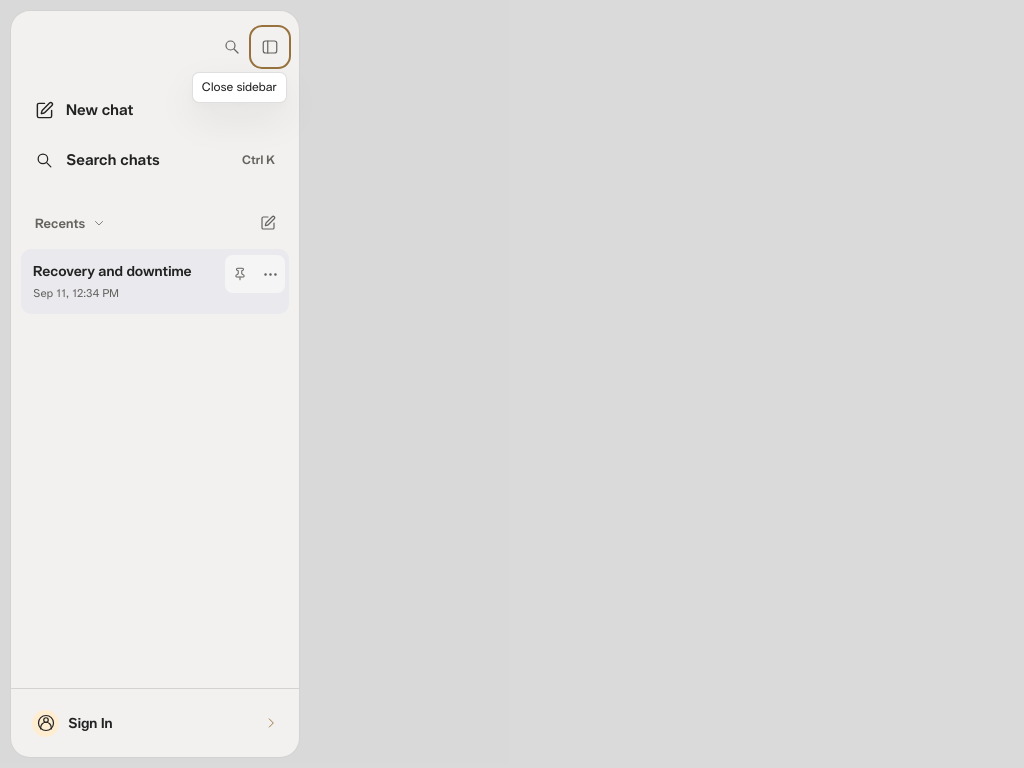
Test case: Functional sidebar with HTTP doubles › supports keyboard options and explicit rename, with errors preserving the edit
The width and height of the screenshot is (1024, 768).
Click the button named "Options for Recovery and downtime" at (270, 274), box [255,255,285,293]
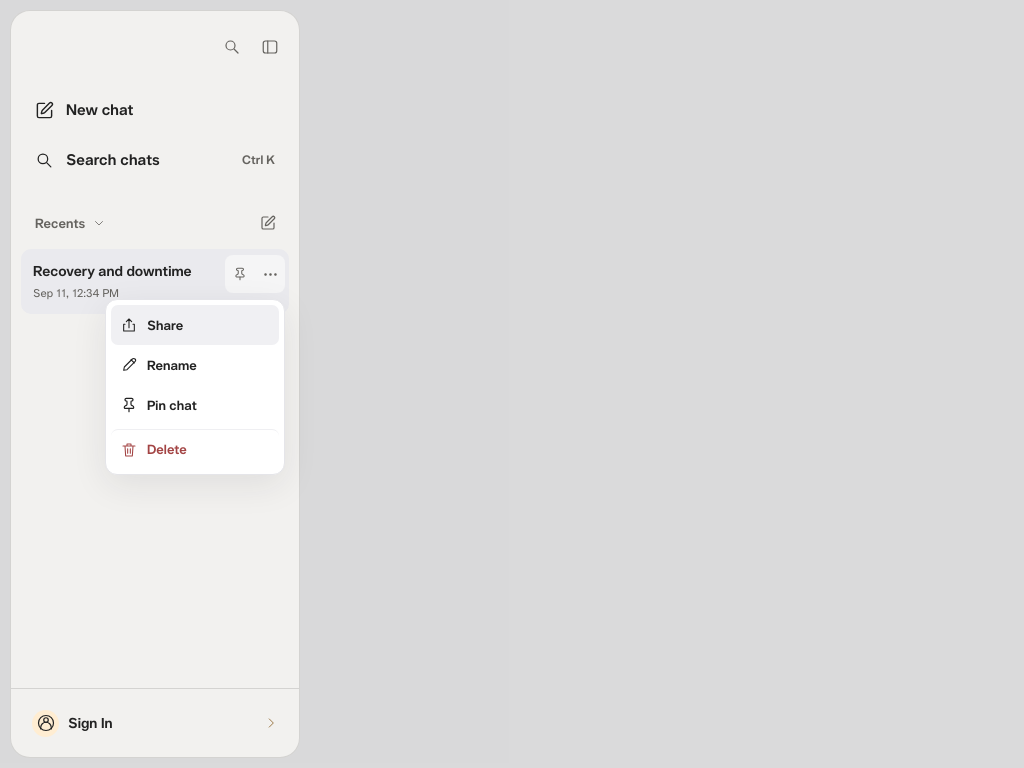
Press Arrowdown Enter
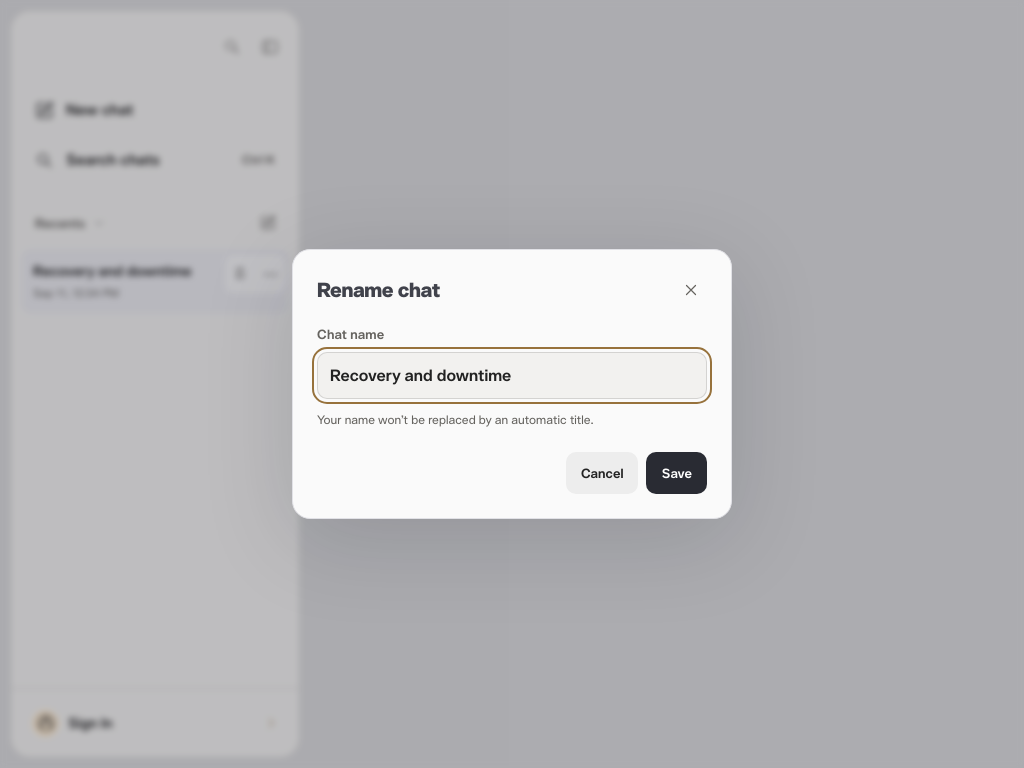
Replace the text in the field labelled "Chat name" with "A clearer topic" at (512, 375), box [317,352,707,399]
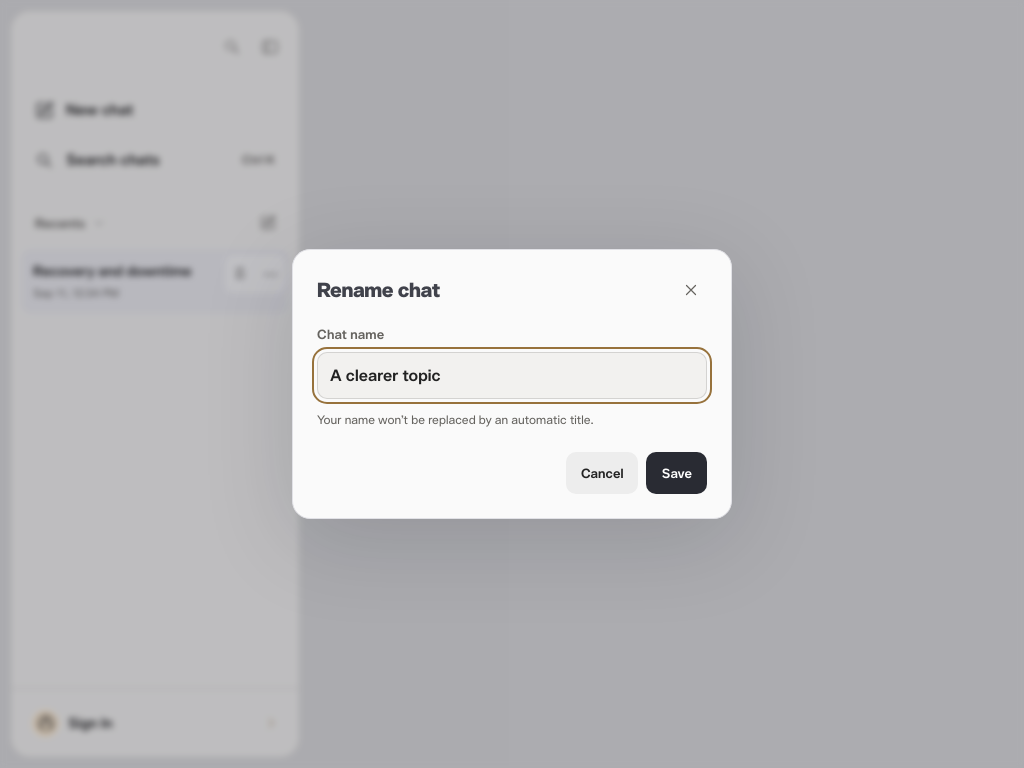
Click the button "Save" at (677, 473), box [646,452,707,494]
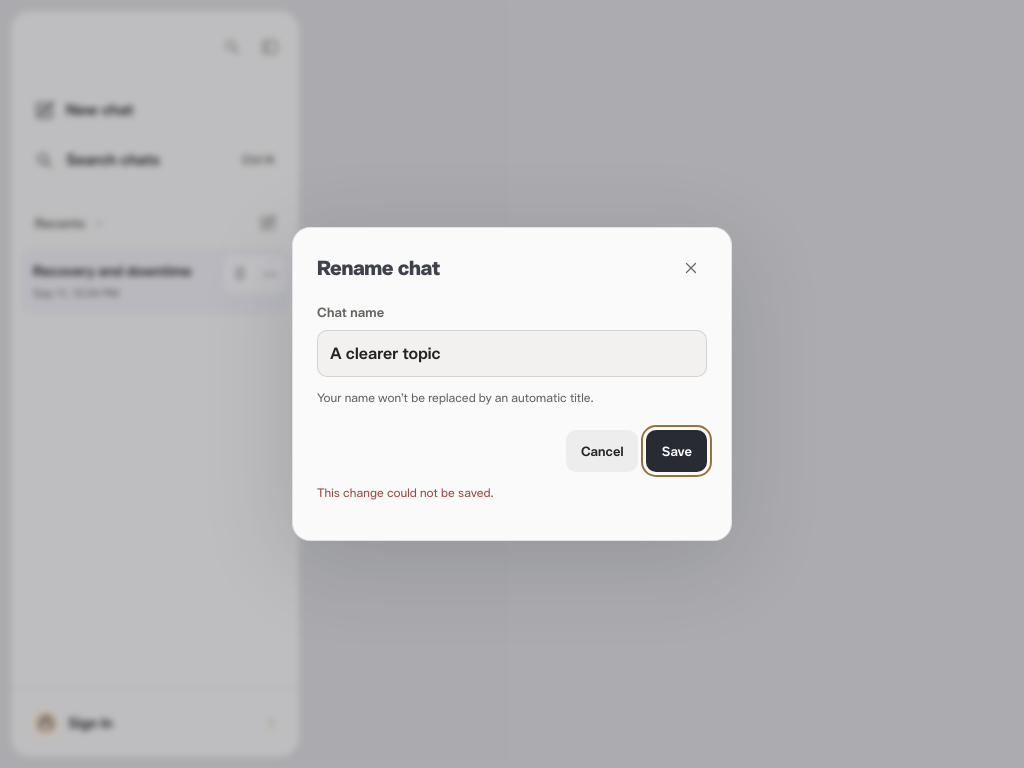
Now the text "This change could not be saved." is shown, box [317,485,494,501]
Click the button "Save" at (677, 451), box [646,430,707,472]
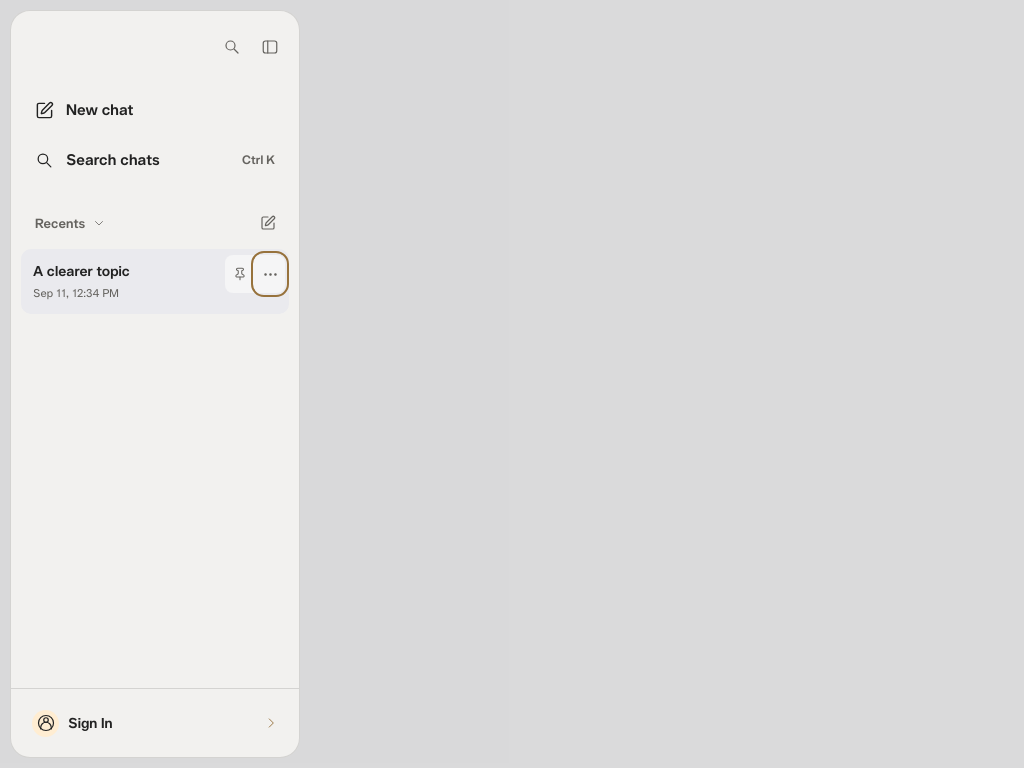
Now the button "A clearer topic Sep 11, 12:34 PM" is shown, box [21,249,289,314]
Now the dialog is gone
Now the text "A clearer topic" is shown, box [33,262,130,280]
